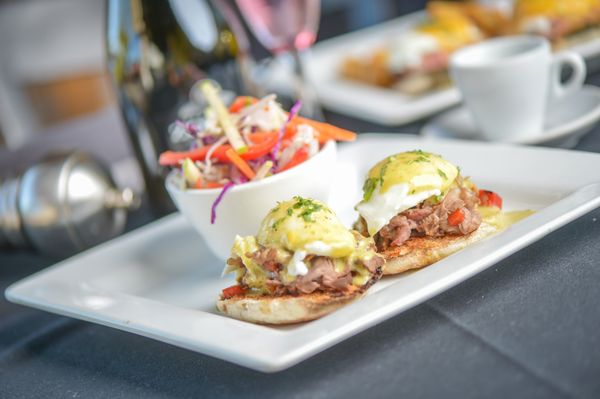pizza: (449, 33, 589, 143)
soup: (215, 195, 385, 326), (352, 149, 490, 275)
sushi: (159, 97, 357, 264)
